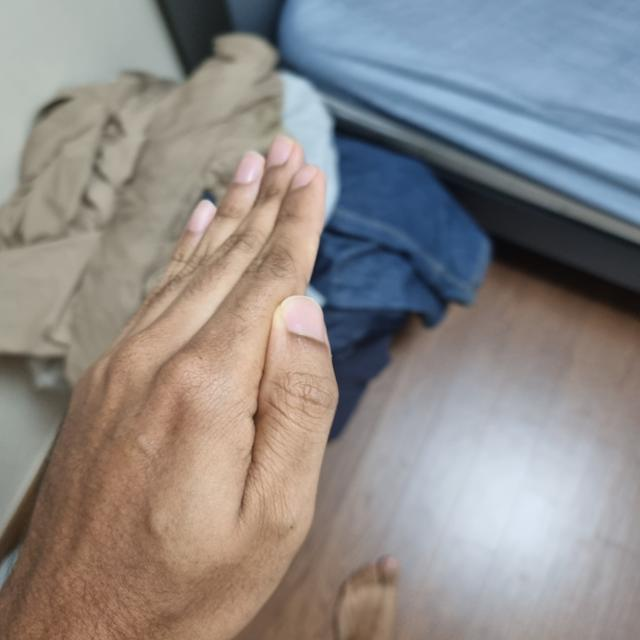Paper: (1, 130, 338, 639)
